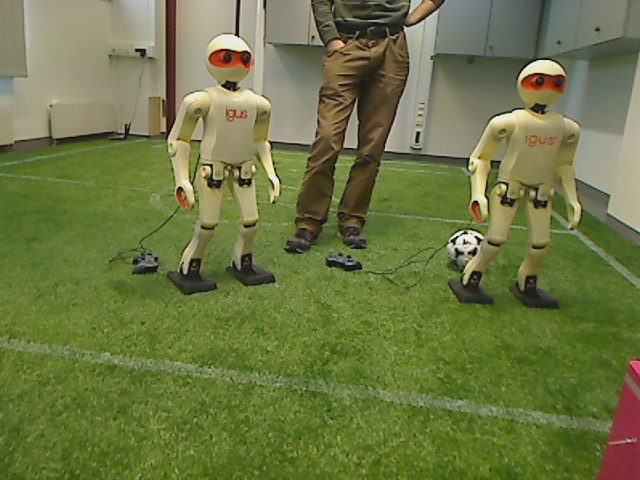ball: (444, 226, 485, 273)
robot: (459, 57, 584, 313), (166, 31, 286, 297)
